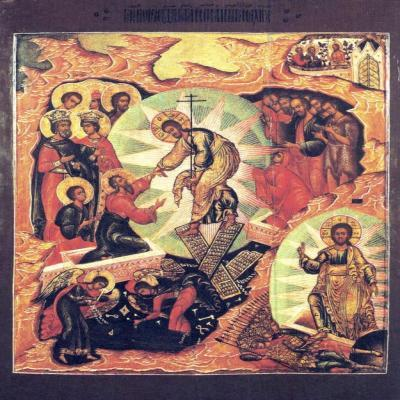painting: (11, 32, 391, 376)
